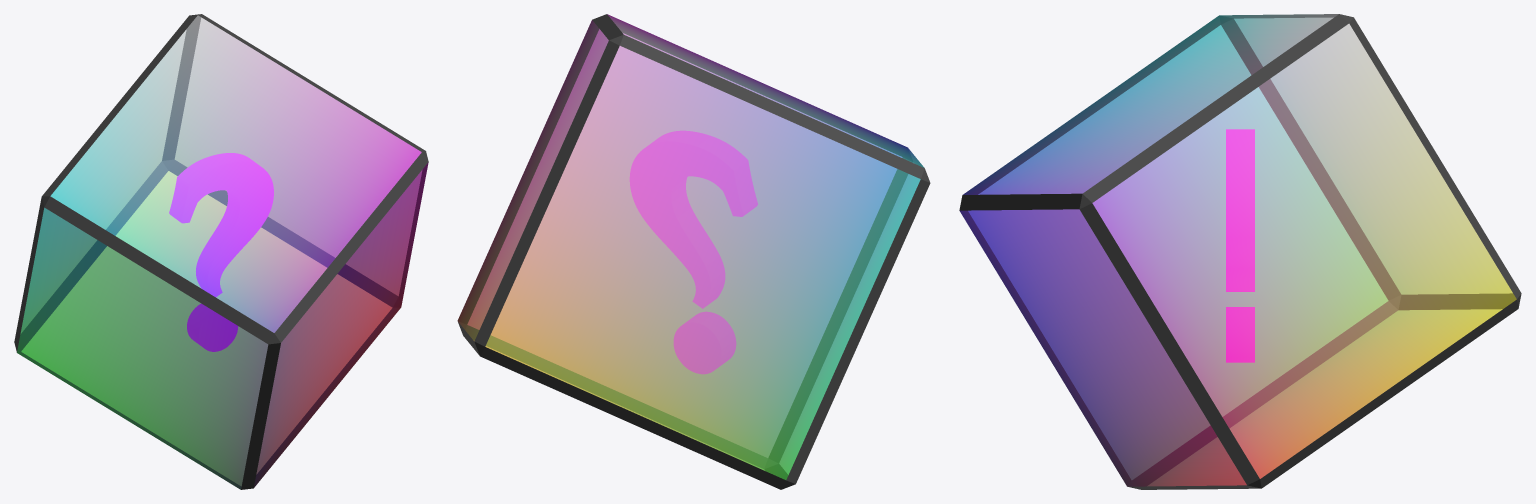
Rendered from Pick_Up.fbx.
3 renders of one model, left to right at view 1: azimuth 30°, elevation 25°; view 2: azimuth 150°, elevation 25°; view 3: azimuth 270°, elevation 25°, orthographic. The views are drawn at different scales.
Parts seen in each view (by area): view 1: Cube, Text; view 2: Cube, Text; view 3: Cube, Text.
Part boxes in pixels (x1=…): Cube: x1=14, y1=14, x2=428, y2=489; Text: x1=169, y1=153, x2=273, y2=351; Cube: x1=457, y1=14, x2=930, y2=489; Text: x1=629, y1=130, x2=757, y2=374; Cube: x1=959, y1=14, x2=1521, y2=489; Text: x1=1226, y1=129, x2=1254, y2=362.
Size of the model in its own units: 108 by 113 by 116.
